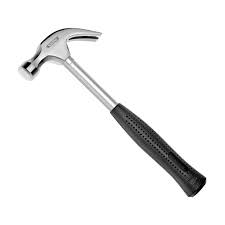martillu: (16, 26, 209, 200)
